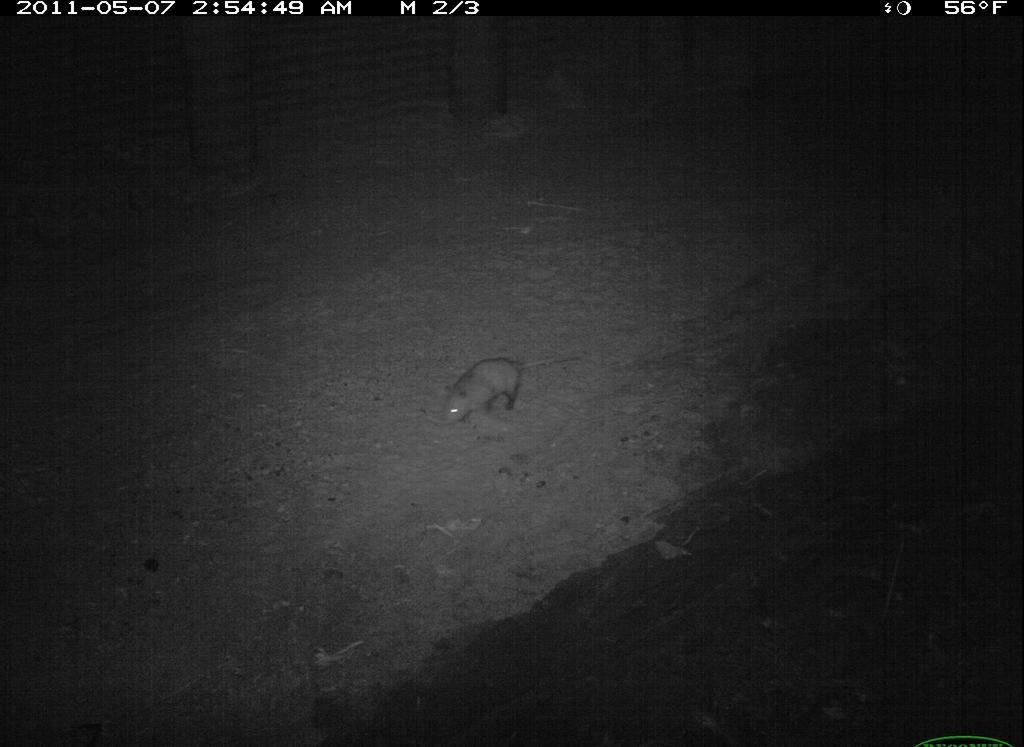opossum: (423, 342, 587, 433)
